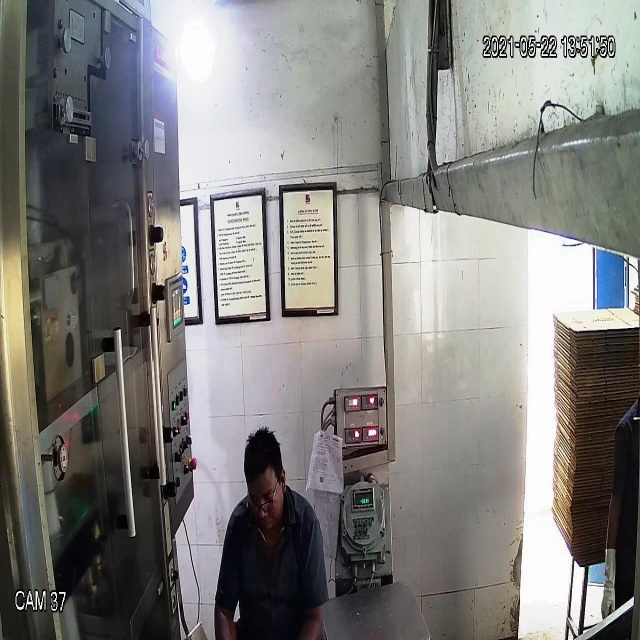Gafas: (246, 481, 283, 517)
